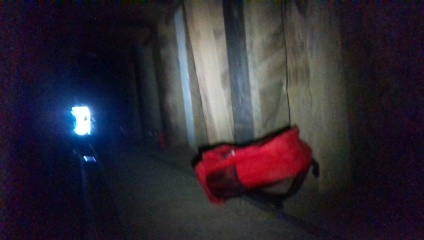backpack: (192, 125, 314, 203)
drill: (140, 127, 168, 155)
